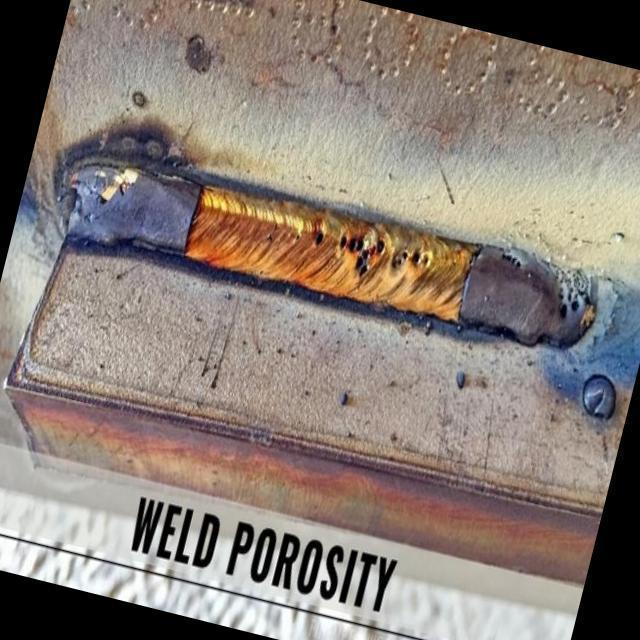defect: (335, 229, 388, 285), (545, 260, 589, 322), (391, 248, 431, 271), (499, 251, 523, 270), (265, 220, 280, 242), (311, 228, 324, 251), (293, 228, 303, 242)
